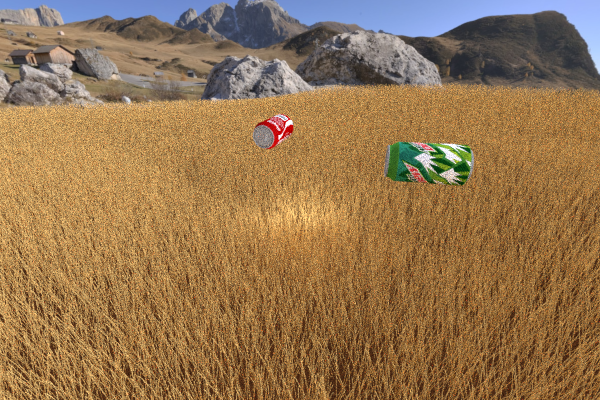bottle: (0, 211, 439, 400)
can: (384, 141, 473, 185), (252, 114, 293, 149)
